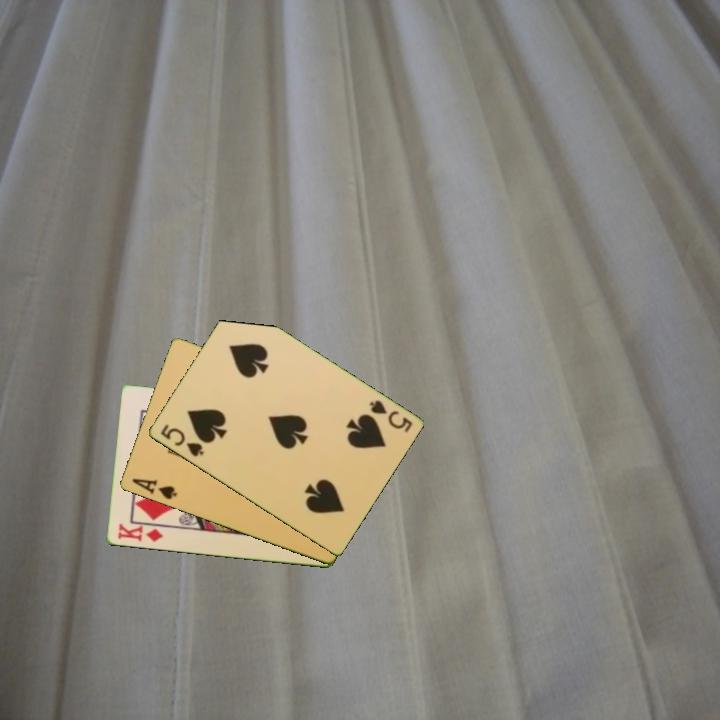5s: (157, 420, 207, 460), (365, 396, 415, 436)
As: (128, 475, 180, 503)
Kd: (114, 520, 166, 545)
